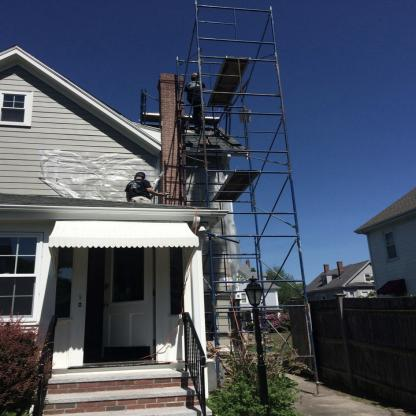door: (101, 248, 153, 355)
knob: (104, 304, 108, 308)
